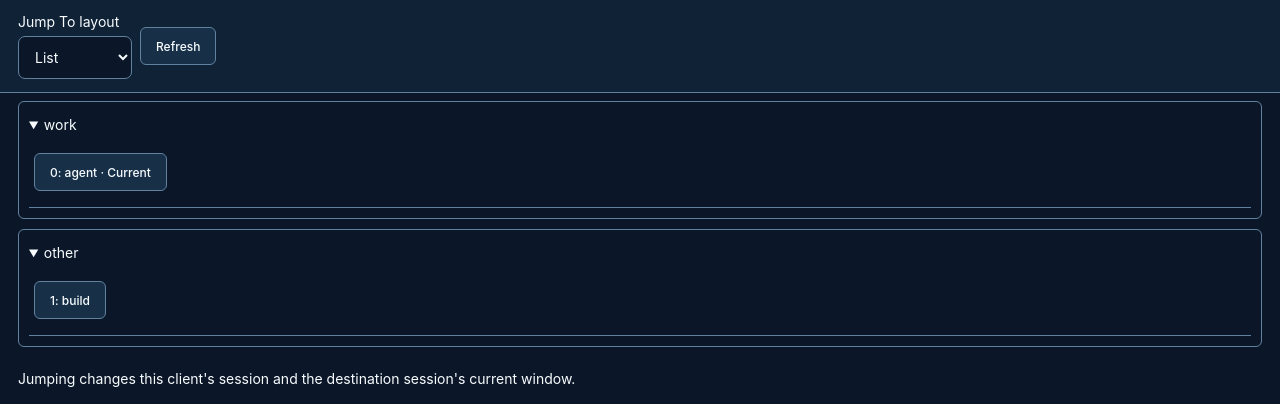
Test: discards targets after a failed binding and discloses unavailable navigation
Click the button "1: build": (70, 300) x1=34 y1=281 x2=106 y2=319
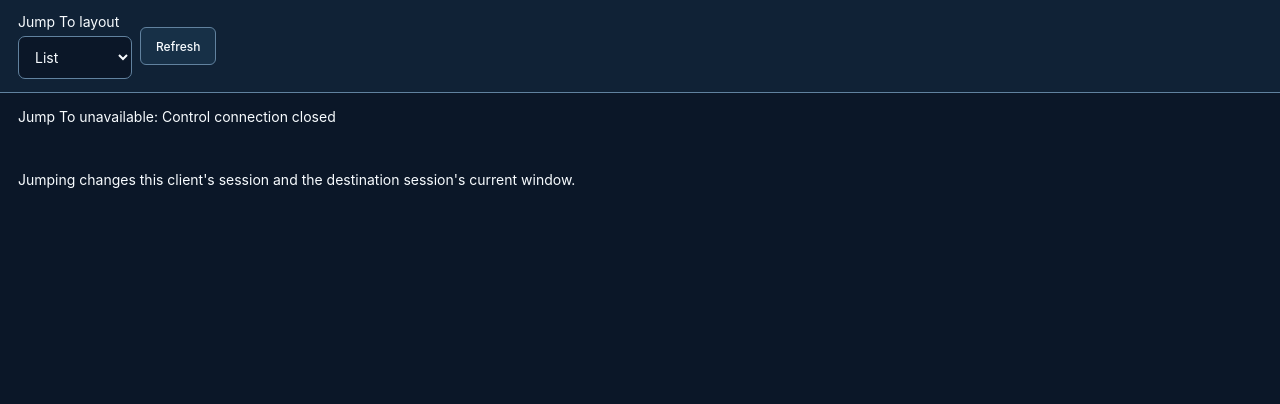
expect the message reads "Jump To unavailable: Control connection closed": met, box x1=18 y1=108 x2=336 y2=125
expect the button "0: agent · Current" is gone: met
